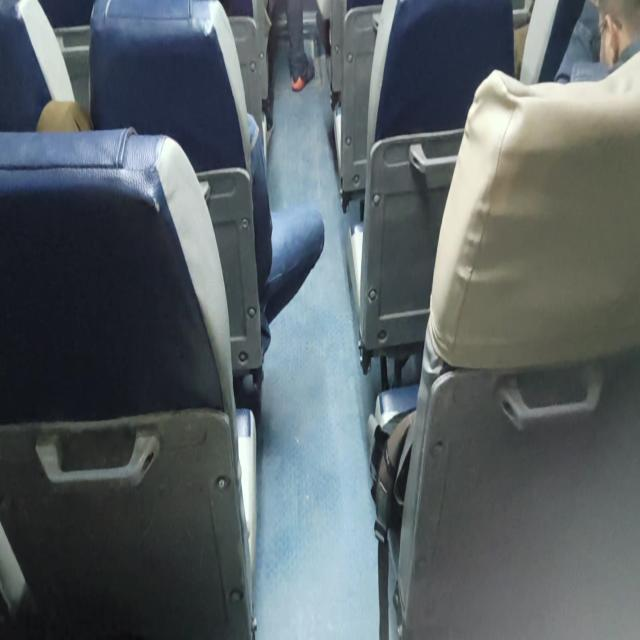person: (371, 1, 639, 637), (36, 95, 324, 358), (262, 0, 314, 135), (568, 0, 639, 84)
